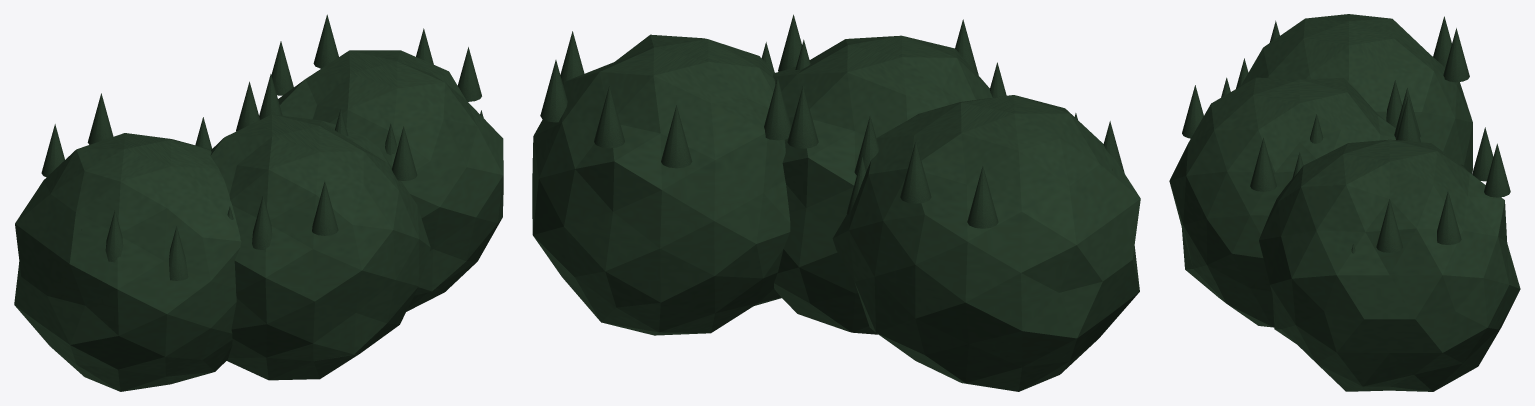
Rendered from moss_ball.glb.
3 renders of one model, left to right at view 1: azimuth 30°, elevation 25°; view 2: azimuth 150°, elevation 25°; view 3: azimuth 270°, elevation 25°, orthographic. The views are drawn at different scales.
Visible parts, largest first — view 1: static_ornament; view 2: static_ornament; view 3: static_ornament.
Boxes of the visible parts, bbox=[...] form: static_ornament: bbox=[14, 14, 503, 391]; static_ornament: bbox=[532, 14, 1140, 391]; static_ornament: bbox=[1169, 14, 1520, 391].
Size of the model in its own units: 0.9982 by 0.4907 by 0.6505.
Materials: 1 (1 with a texture image).
